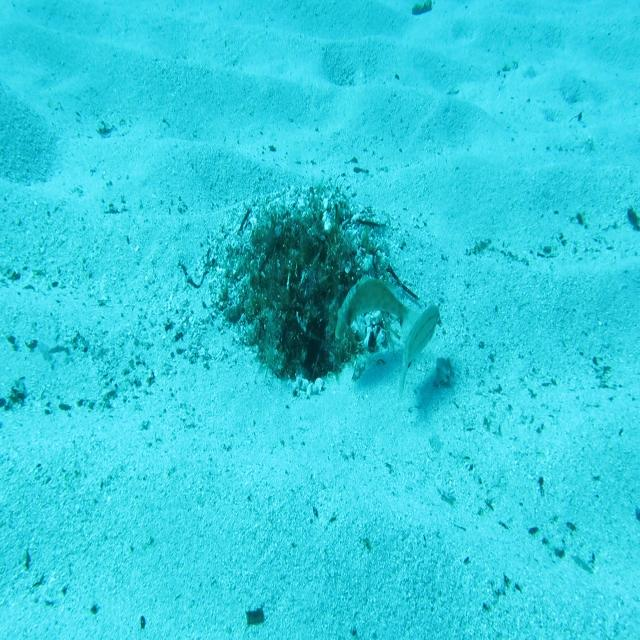BK_SW: (332, 274, 424, 344)
core_nest: (274, 226, 325, 264)
female: (398, 299, 442, 404)
nest: (211, 180, 419, 410)
vegetation: (410, 0, 437, 15)
